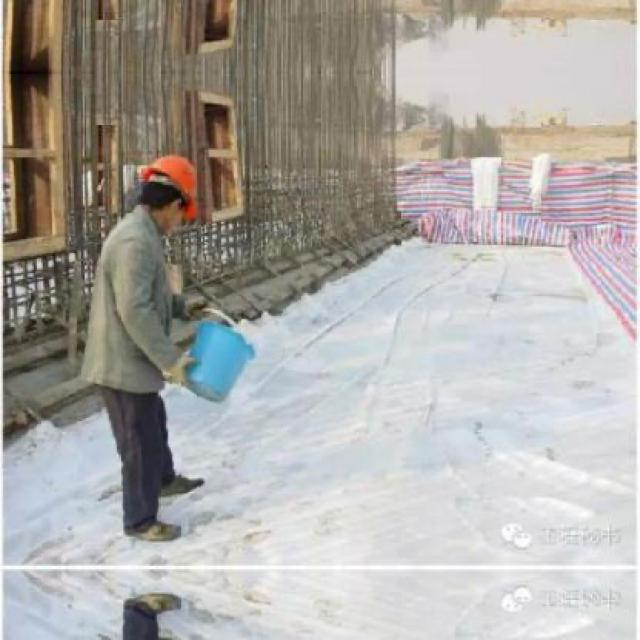helmet: (132, 154, 200, 224)
